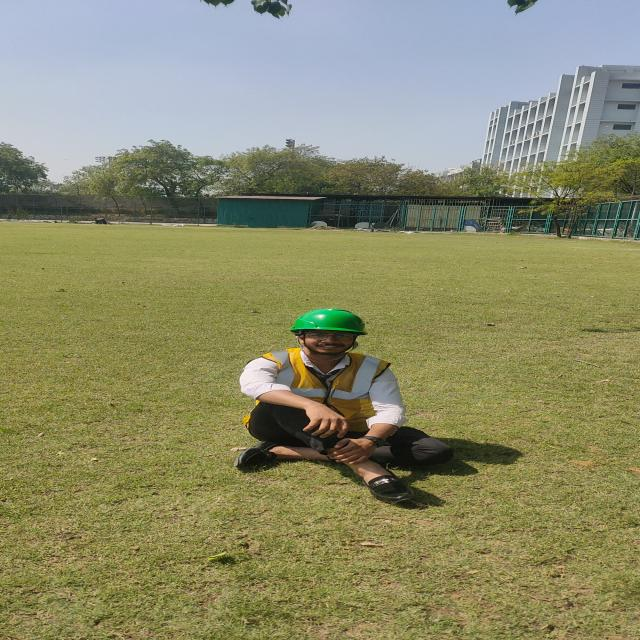safe: (242, 309, 452, 503)
